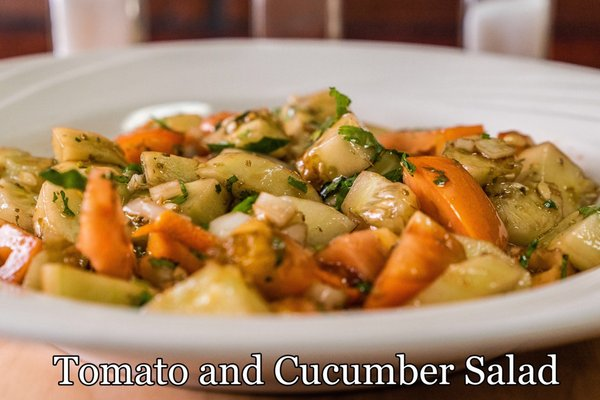pizza: (49, 0, 145, 59)
sushi: (1, 47, 600, 380)
